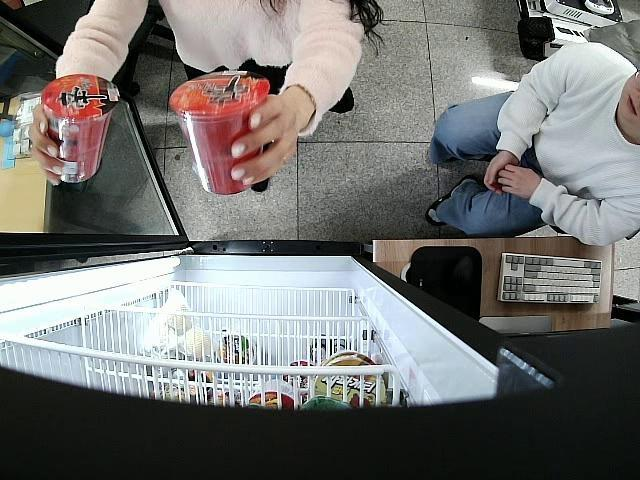02_shinRamen_S: (168, 70, 271, 192), (40, 73, 119, 184)
